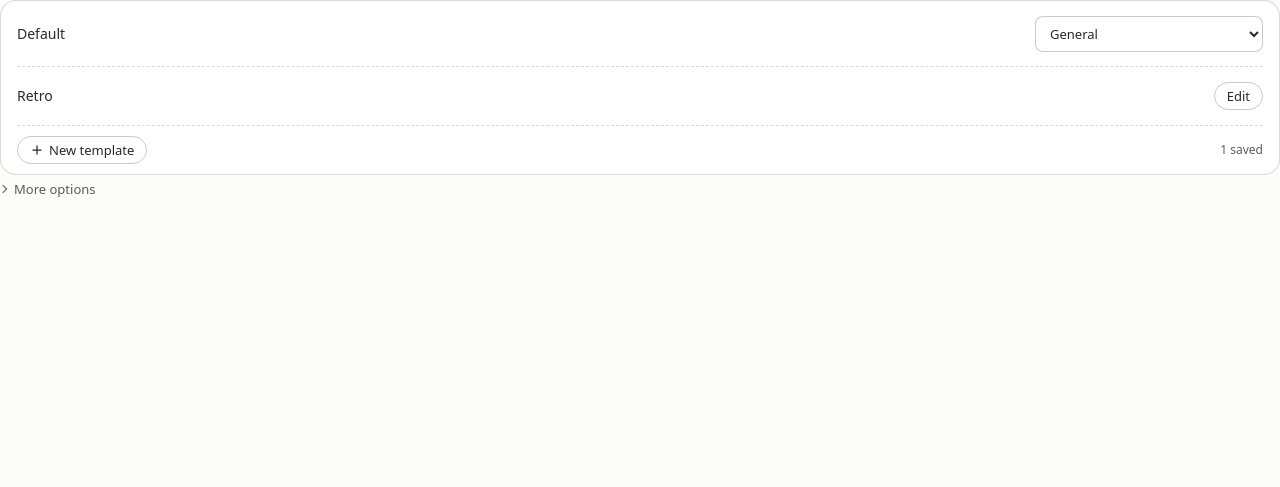
Test: keeps a failed save's draft and shows one sentence
Click the button "New template" at (82, 150), box left=17, top=136, right=147, bottom=164
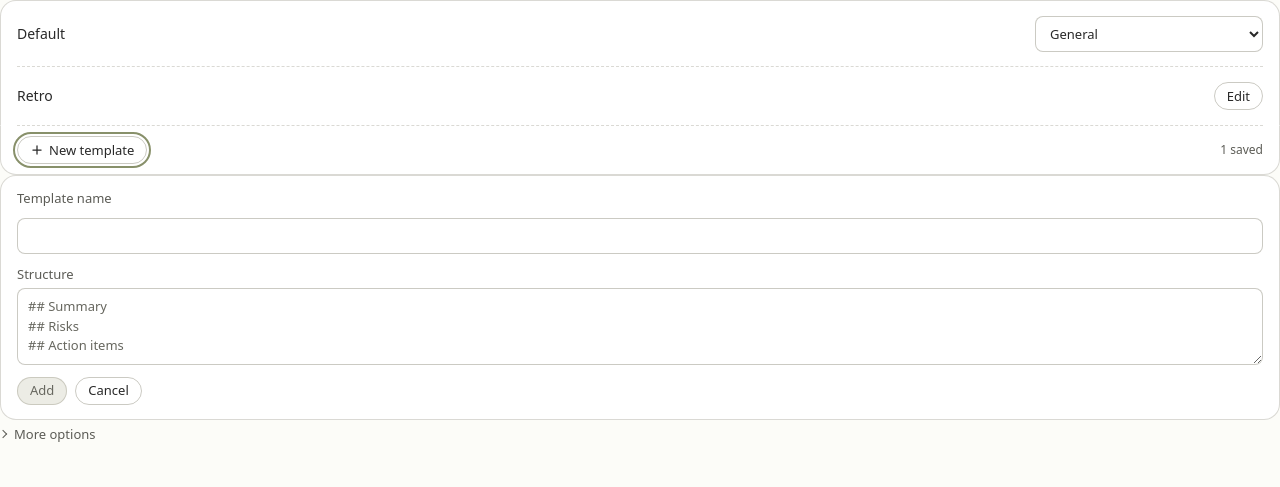
Type "Board" into the field labelled "Template name" at (640, 236), box left=17, top=218, right=1263, bottom=254
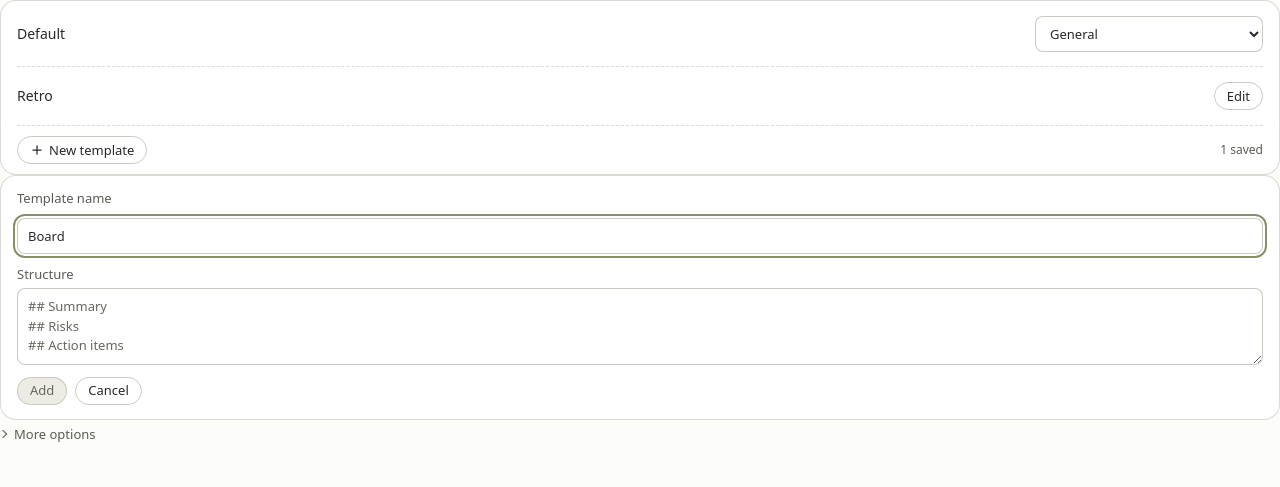
Type "## Risks" into the text box named "Template structure" at (640, 326), box left=17, top=288, right=1263, bottom=364
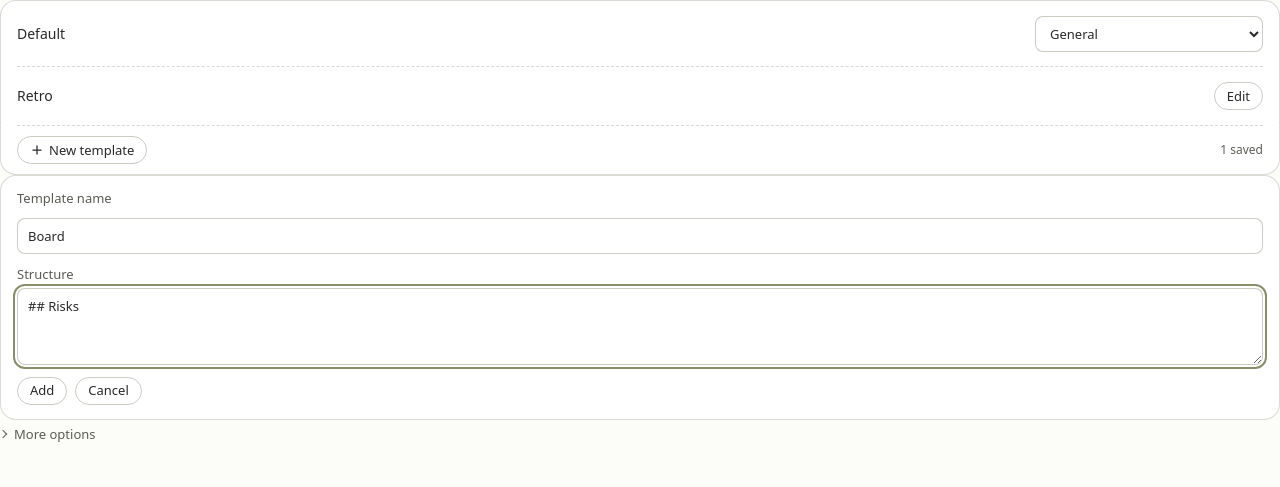
Click the button with aria-label "Add template" at (42, 390), box left=17, top=376, right=67, bottom=404
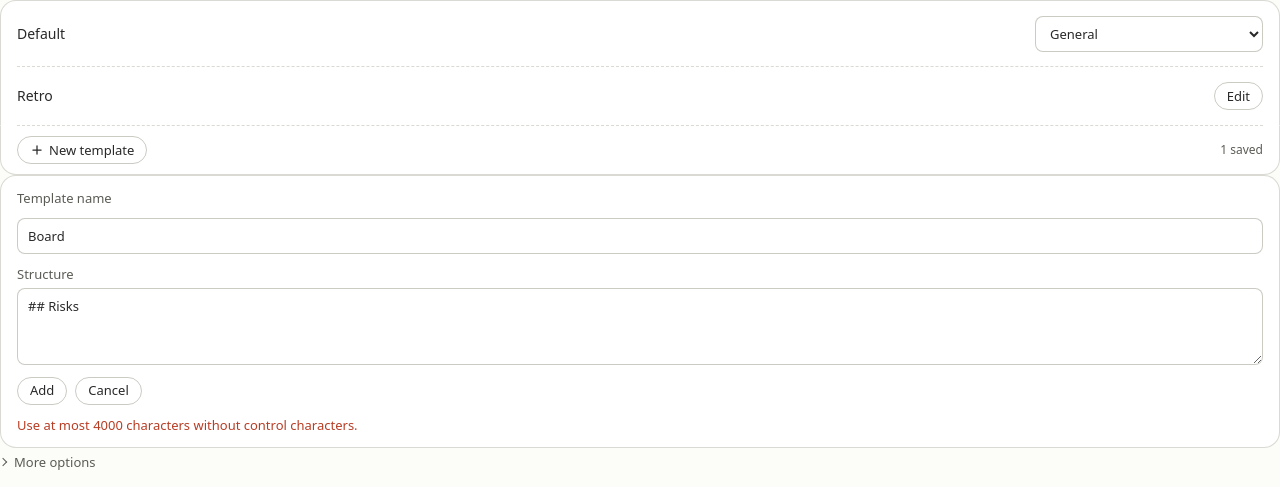
Expected: the message reads "Use at most 4000 characters without control characters.", left=17, top=416, right=358, bottom=434
